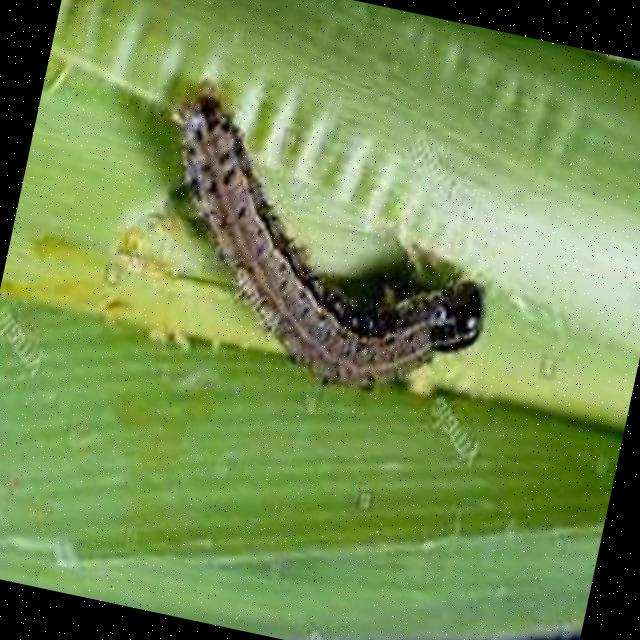worm: (121, 68, 523, 416)
